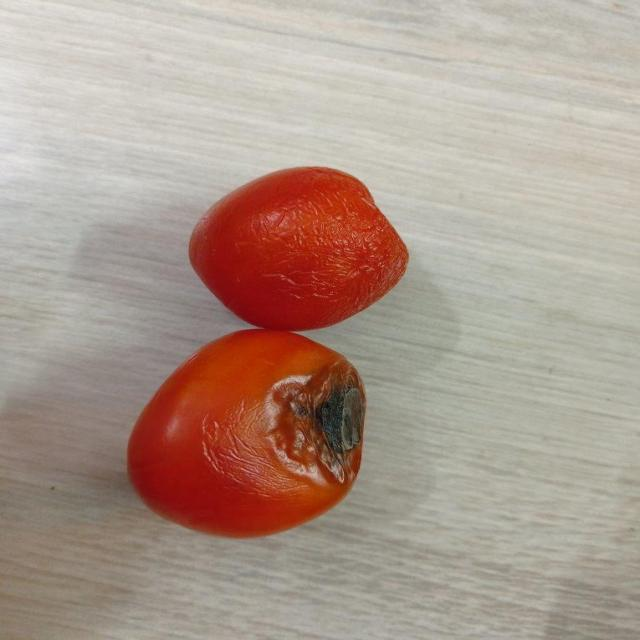Rotten: (127, 325, 370, 537)
overripe: (186, 165, 410, 329)
